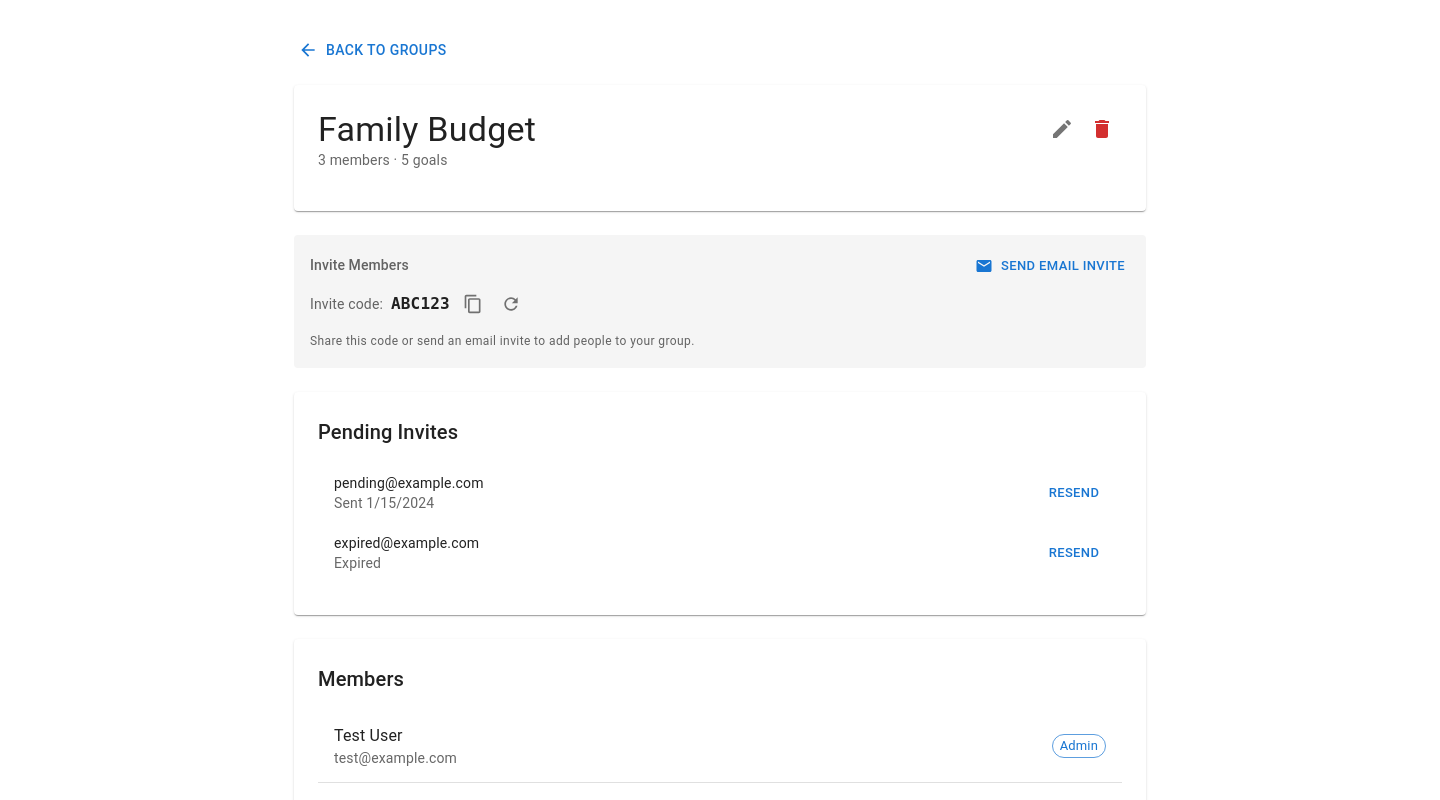
GroupDetail › when logged in as admin › delete group › opens delete confirmation dialog
Expected: the heading "Family Budget" is shown, [318,108,536,150]
Click the button named "Delete group" at (1102, 128), box [1082,108,1122,148]
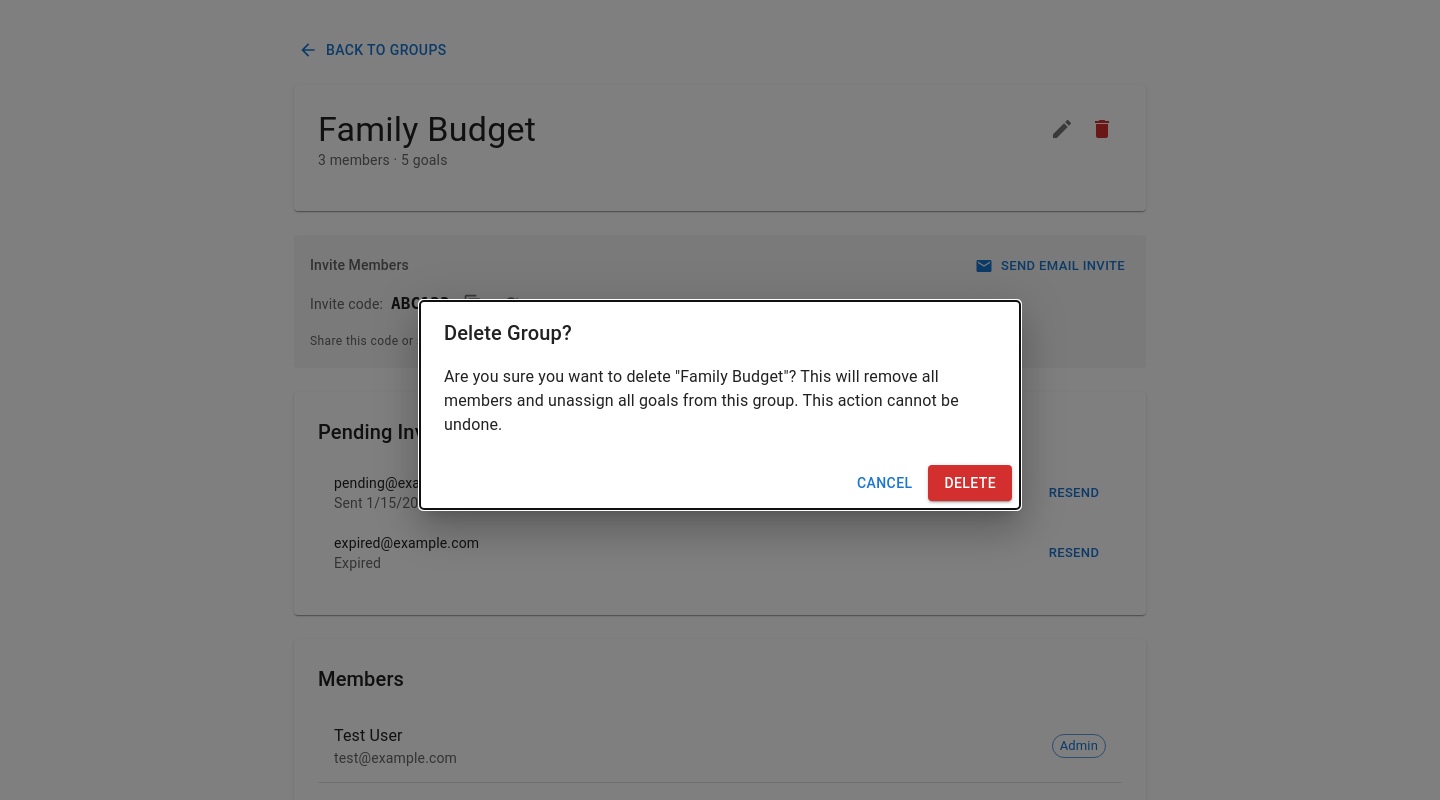
Now the heading "Delete Group?" is shown, box [444,321,572,345]
